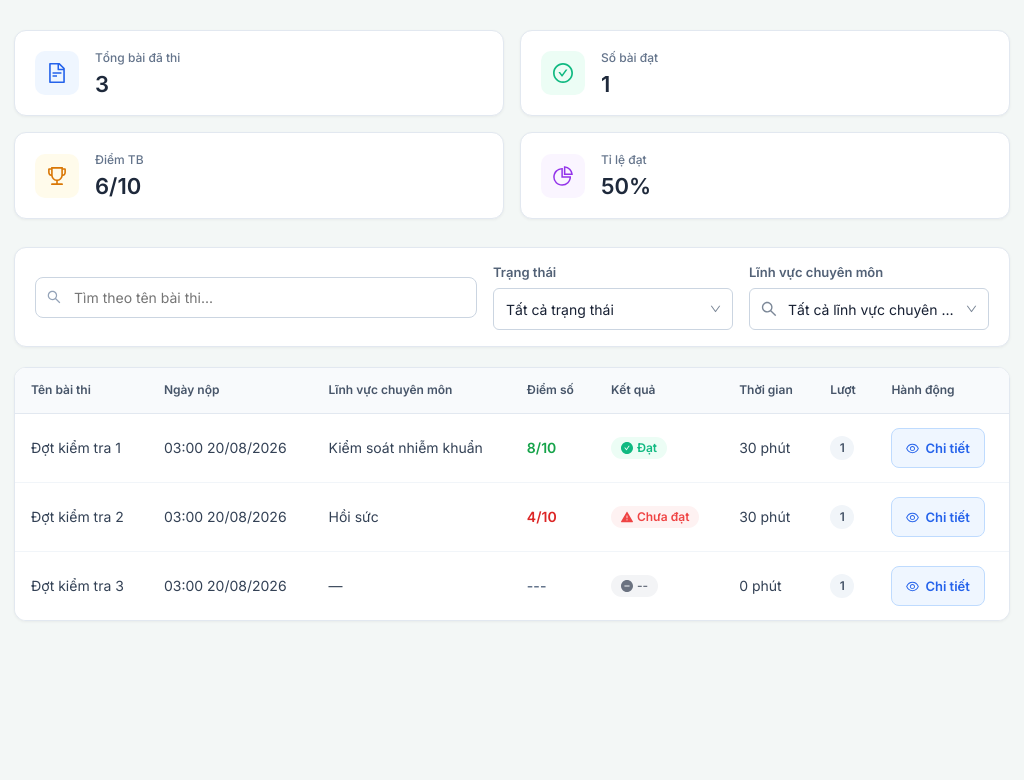
Test: ExamHistoryScreen - chi tiết lượt thi › đánh dấu câu trả lời sai
Expected: the text "Đợt kiểm tra 1" is shown, 15,414 -> 148,483
What coordinates should you click on to do the following:
click the button "Chi tiết" in the row of "Đợt kiểm tra 1"
I would click on:
 (938, 448)
Its box is 891,428 -> 985,468.
(page scrolled)
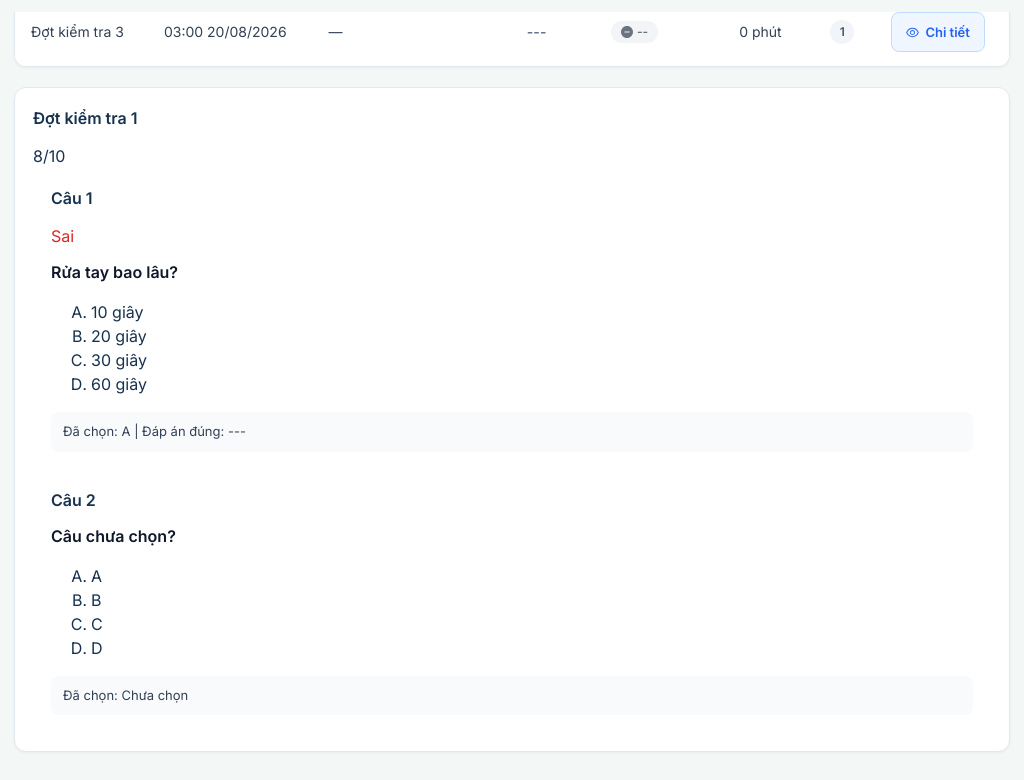
Expected: the text "Sai" is shown, 51,226 -> 74,246
Expected: the text "Đã chọn: A | Đáp án đúng: ---" is shown, 51,412 -> 973,452
